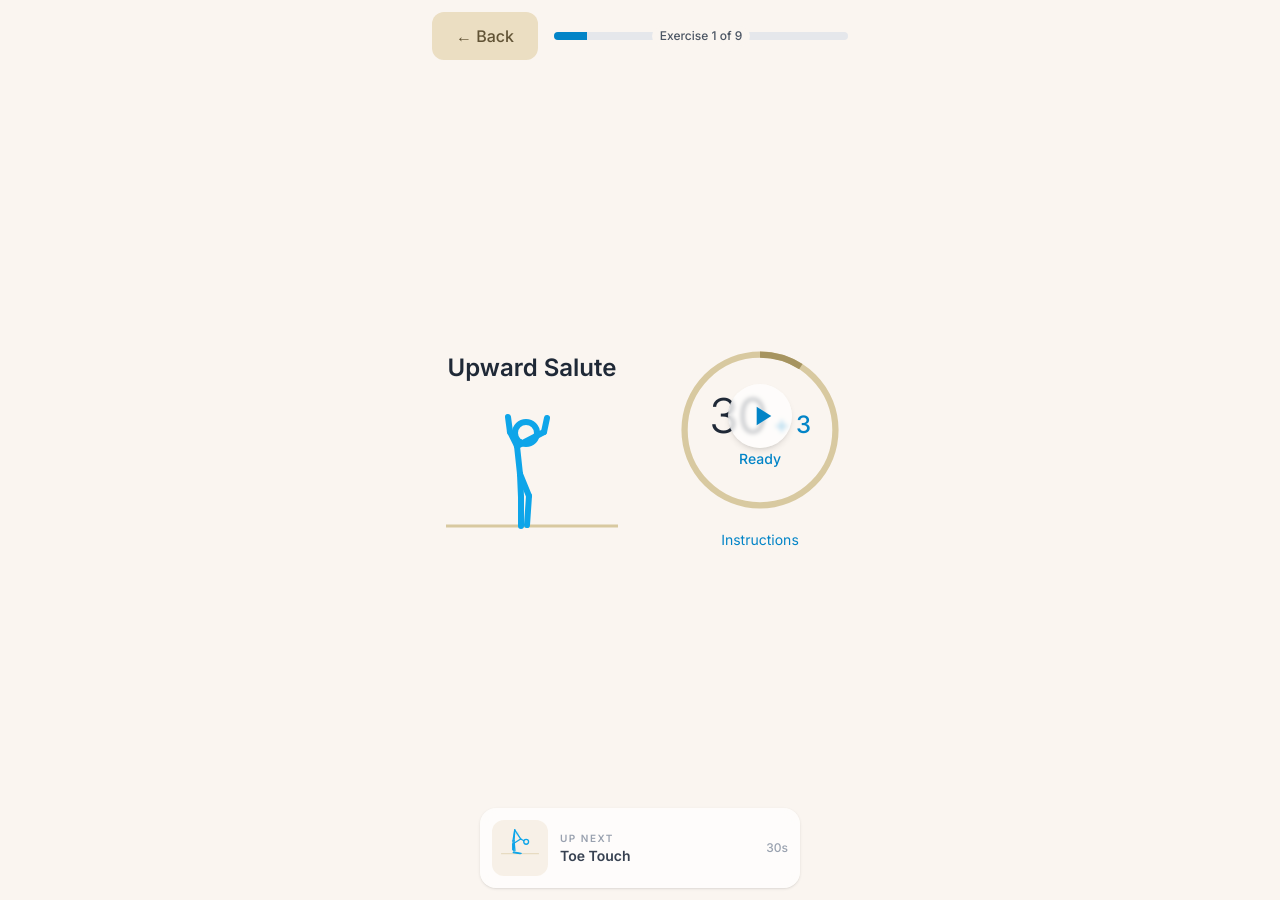
Test case: Session (scrollable feed) › opens and closes the instructions overlay for the active exercise
The image size is (1280, 900).
Step 1. Click the button "Instructions" → [760, 540], box left=721, top=530, right=799, bottom=550
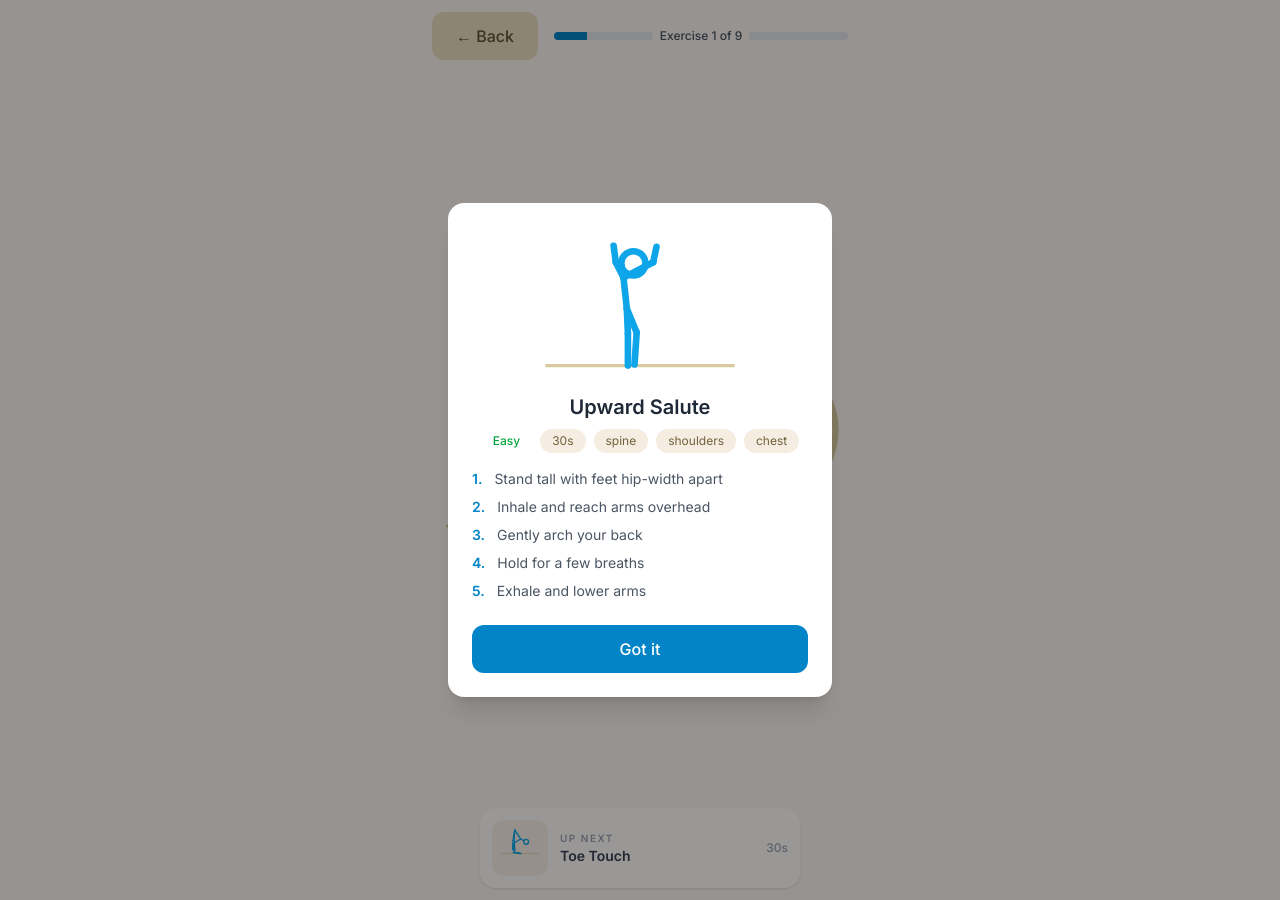
Now the button "Got it" is shown
Now the text "Stand tall with feet hip-width apart" is shown, box left=494, top=469, right=723, bottom=489
Step 2. Click the button "Got it" → [640, 649], box left=472, top=625, right=808, bottom=673
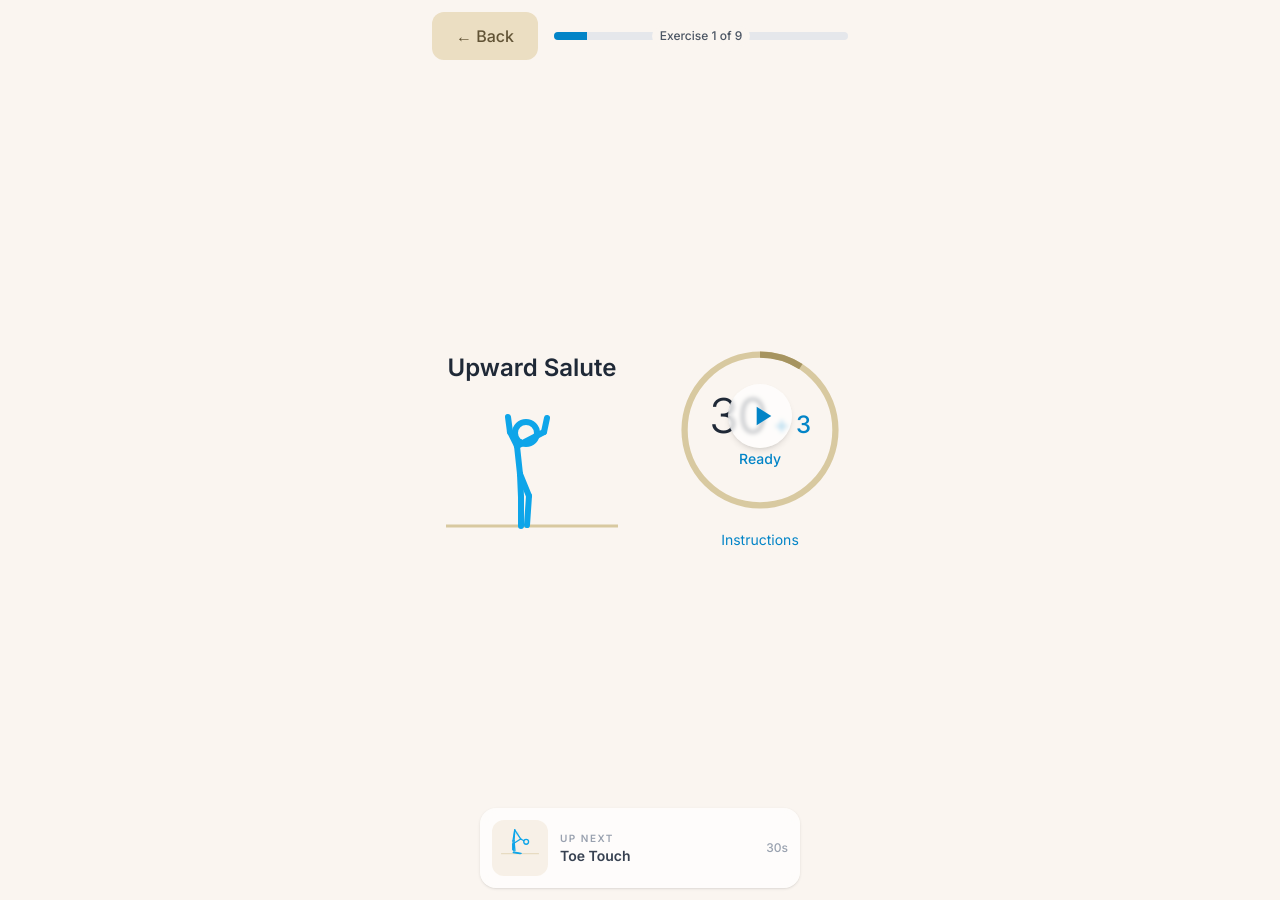
Now the button "Got it" is gone
